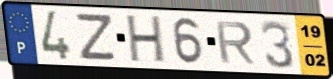3: (259, 18, 296, 71)
4: (39, 8, 74, 62)
6: (170, 16, 206, 66)
H: (125, 14, 167, 65)
R: (213, 20, 258, 66)
Z: (75, 13, 118, 63)
